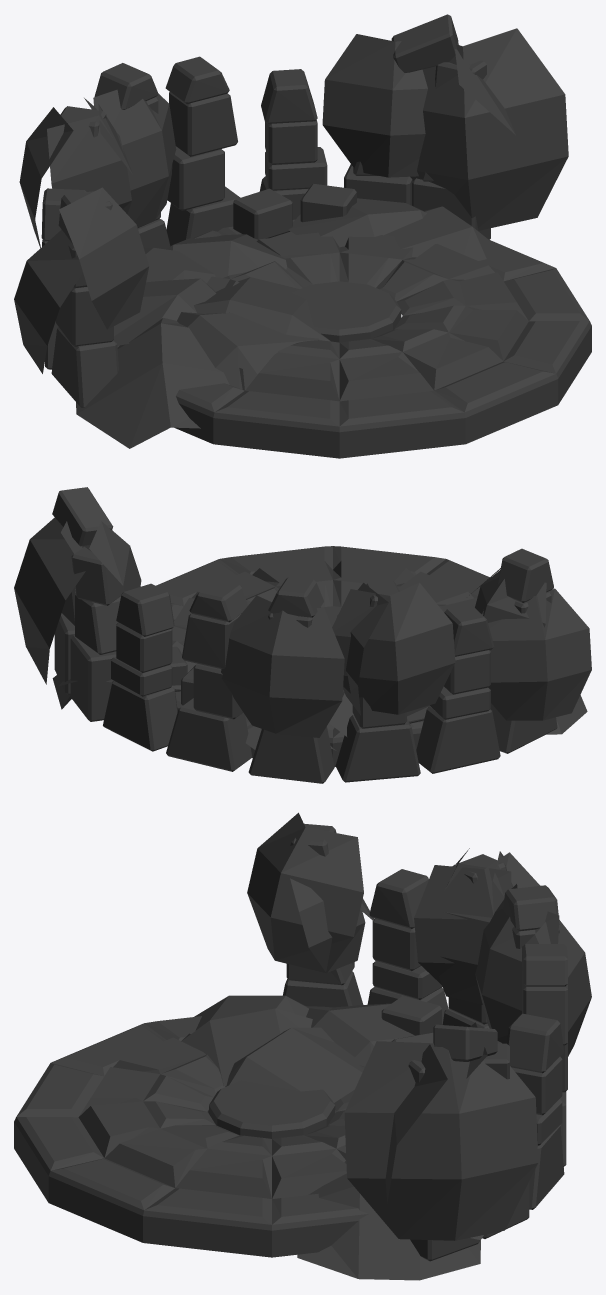
Rendered from speakingstones_01.glb.
3 renders of one model, top to bottom at view 1: azimuth 30°, elevation 25°; view 2: azimuth 150°, elevation 25°; view 3: azimuth 270°, elevation 25°, orthographic. The views are drawn at different scales.
Parts seen in each view (by area): view 1: geometry_0; view 2: geometry_0; view 3: geometry_0.
Boxes of the visible parts, box(x1,y1,x2,y2) form: geometry_0: box(14, 14, 591, 458); geometry_0: box(14, 487, 591, 783); geometry_0: box(14, 812, 591, 1280).
Size of the model in its own units: 10.39 by 4.05 by 8.84.
1 material, 1 textured.
